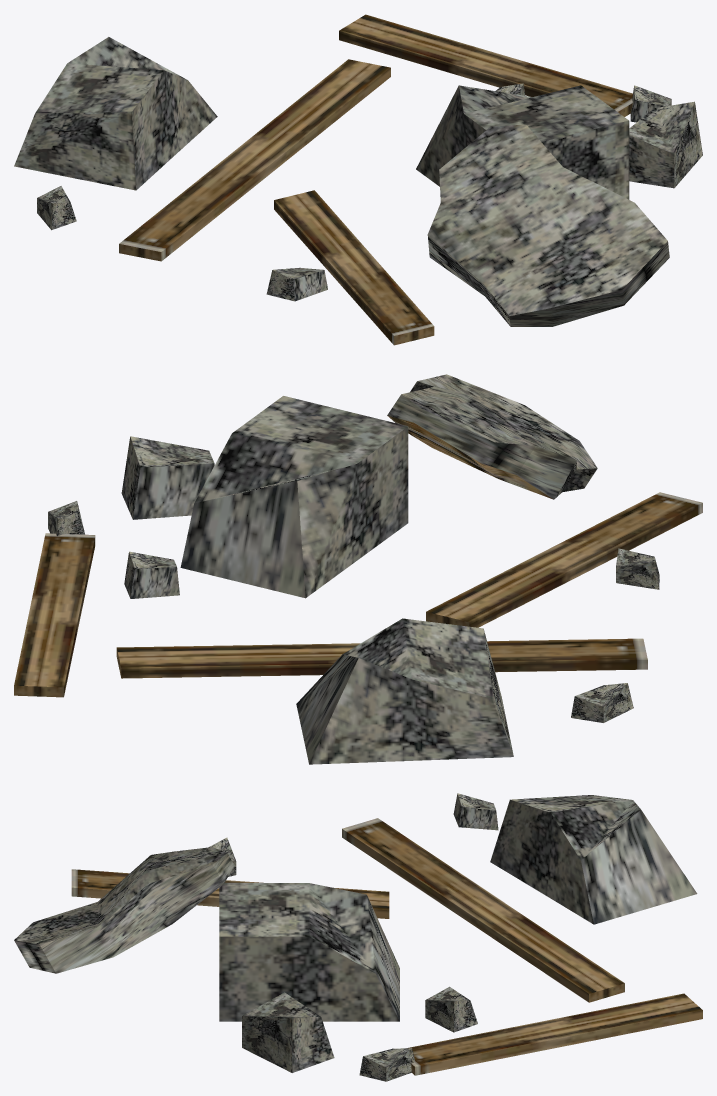
The model's file is M2_Rubble_01.glb.
3 views of the same model, one above another, from view 1: azimuth 30°, elevation 25°; view 2: azimuth 150°, elevation 25°; view 3: azimuth 270°, elevation 25° (orthographic). The views are drawn at different scales.
Parts seen in each view (by area): view 1: M2_RUBBLE_01; view 2: M2_RUBBLE_01; view 3: M2_RUBBLE_01.
Boxes of the visible parts, x1,y1,x2,y2 form: M2_RUBBLE_01: [14, 14, 702, 345]; M2_RUBBLE_01: [14, 374, 702, 764]; M2_RUBBLE_01: [14, 793, 702, 1081].
Size of the model in its own units: 1.96 by 0.4 by 2.13.
2 materials, 2 textured.
